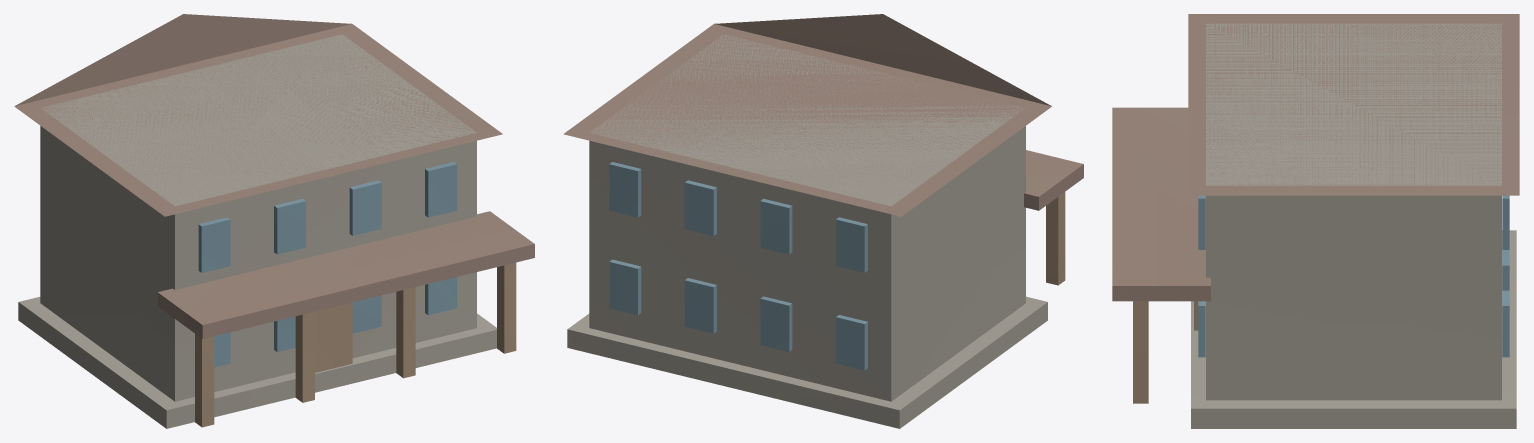
The model's file is station-06.glb.
3 views of the same model, side by side, from view 1: azimuth 30°, elevation 25°; view 2: azimuth 150°, elevation 25°; view 3: azimuth 270°, elevation 25° (orthographic). The views are drawn at different scales.
Parts seen in each view (by area): view 1: world; view 2: world; view 3: world.
Boxes of the visible parts, x1=… form: world: x1=14, y1=14, x2=534, y2=428; world: x1=563, y1=14, x2=1083, y2=428; world: x1=1112, y1=14, x2=1519, y2=428.
Bounding box in the file's own units: 1.52 × 1.14 × 1.45.
